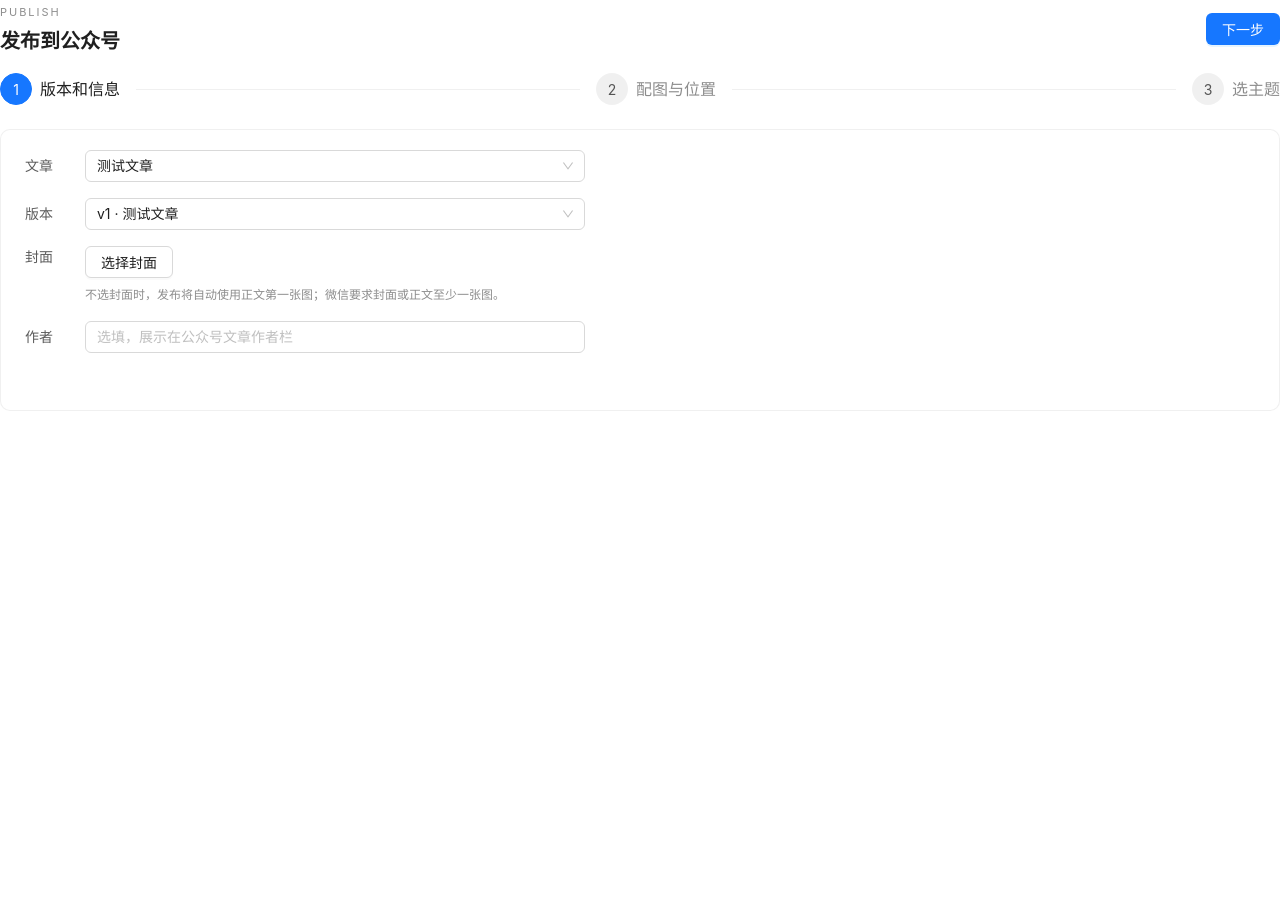
Scenario: PublishPage 三步向导 › 文章无关联配图会话时：弹窗仅显示「素材库图片」组
This screenshot has width=1280, height=900.
expect the heading "发布到公众号" is shown: met, box x1=0 y1=26 x2=120 y2=57
What coordinates should you click on to do the following:
click the button "下一步"
I would click on:
 (1243, 29)
Its box is x1=1206 y1=13 x2=1279 y2=45.
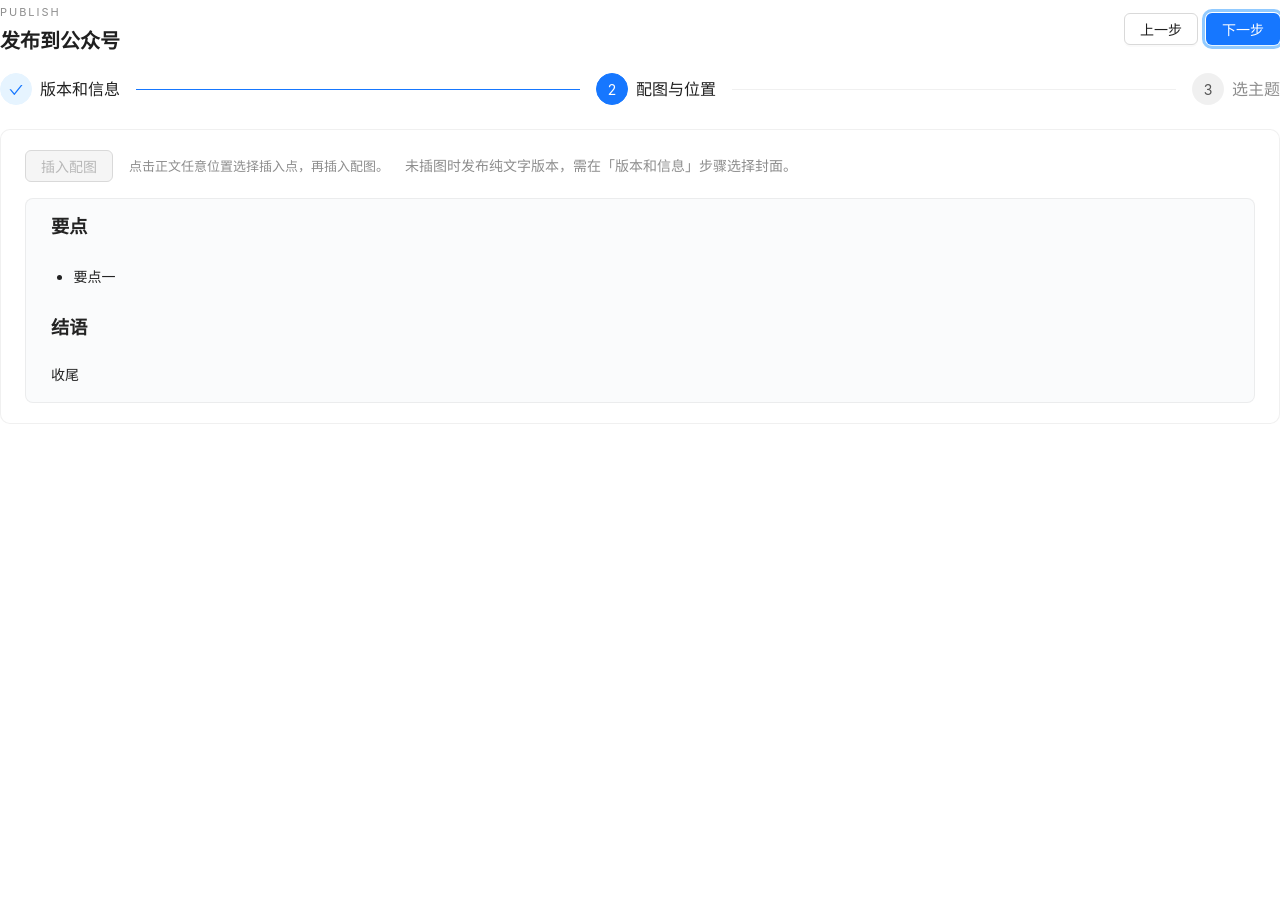
expect the element named "正文画布" is shown: met, box x1=25 y1=198 x2=1255 y2=403
What coordinates should you click on to do the following:
click the element showing "要点"
I would click on:
 (69, 226)
Its box is x1=51 y1=215 x2=87 y2=237.
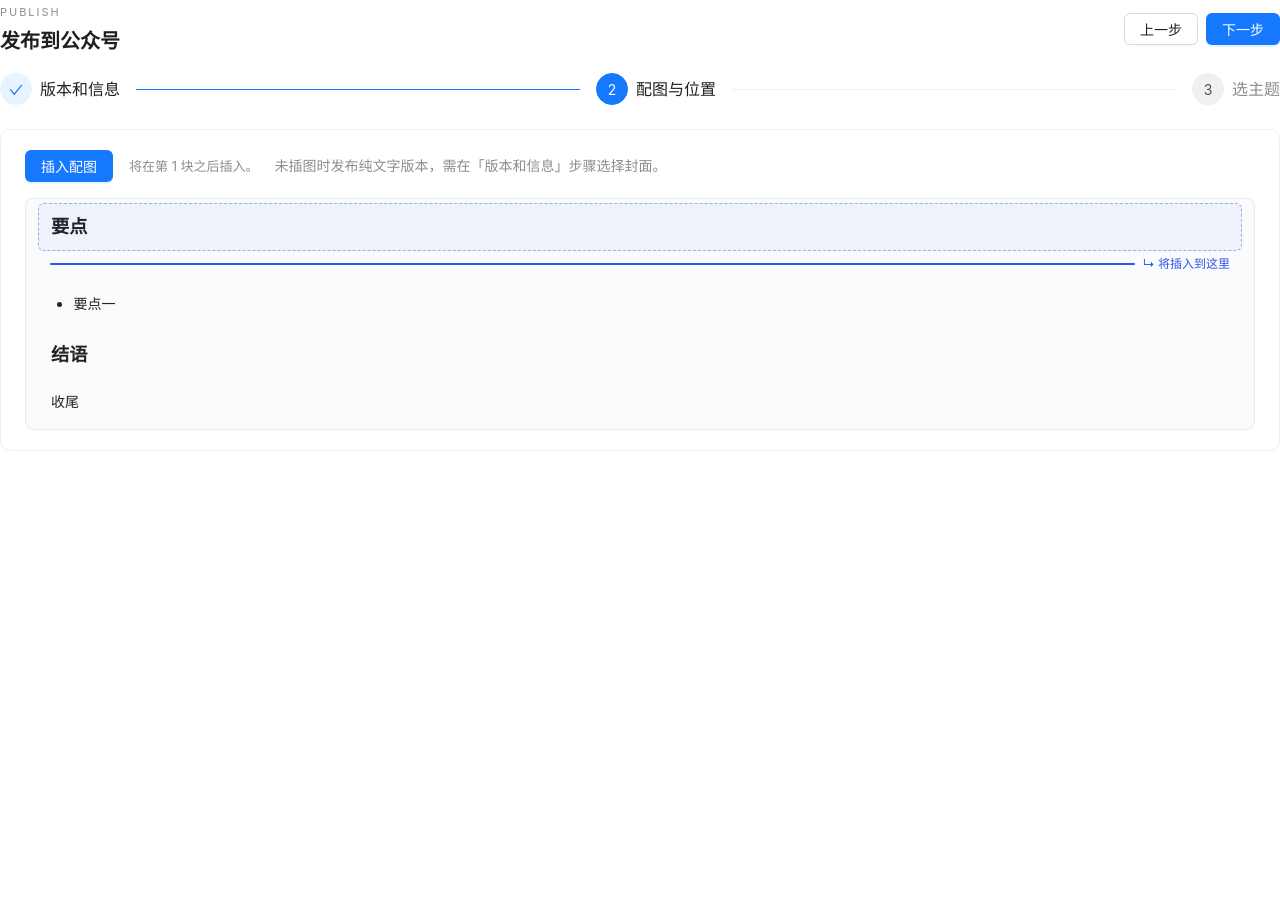
What coordinates should you click on to do the following:
click the button "插入配图"
I would click on:
 (69, 166)
Its box is x1=25 y1=150 x2=113 y2=182.
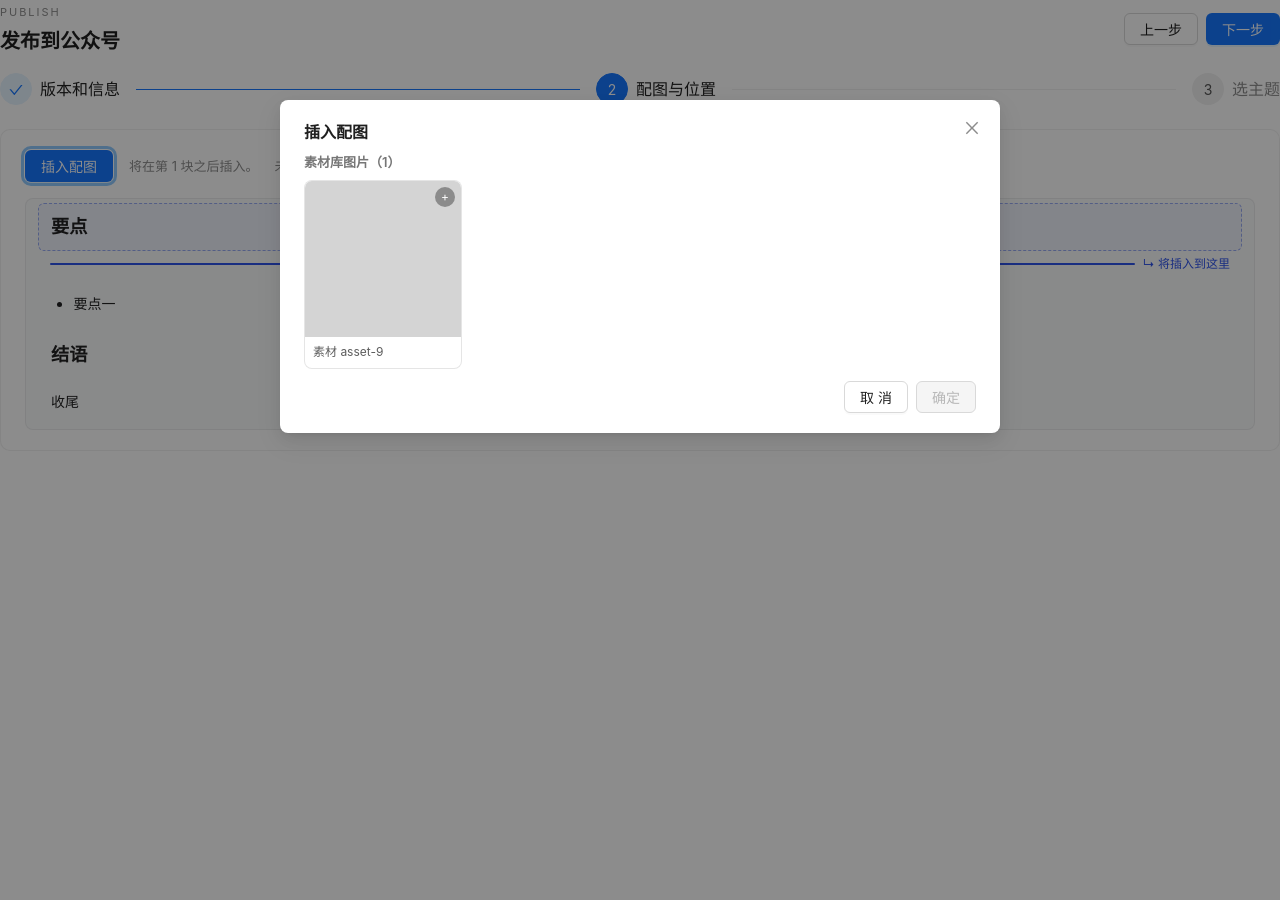
expect the heading "素材库图片（1）" is shown: met, box x1=304 y1=154 x2=400 y2=170
